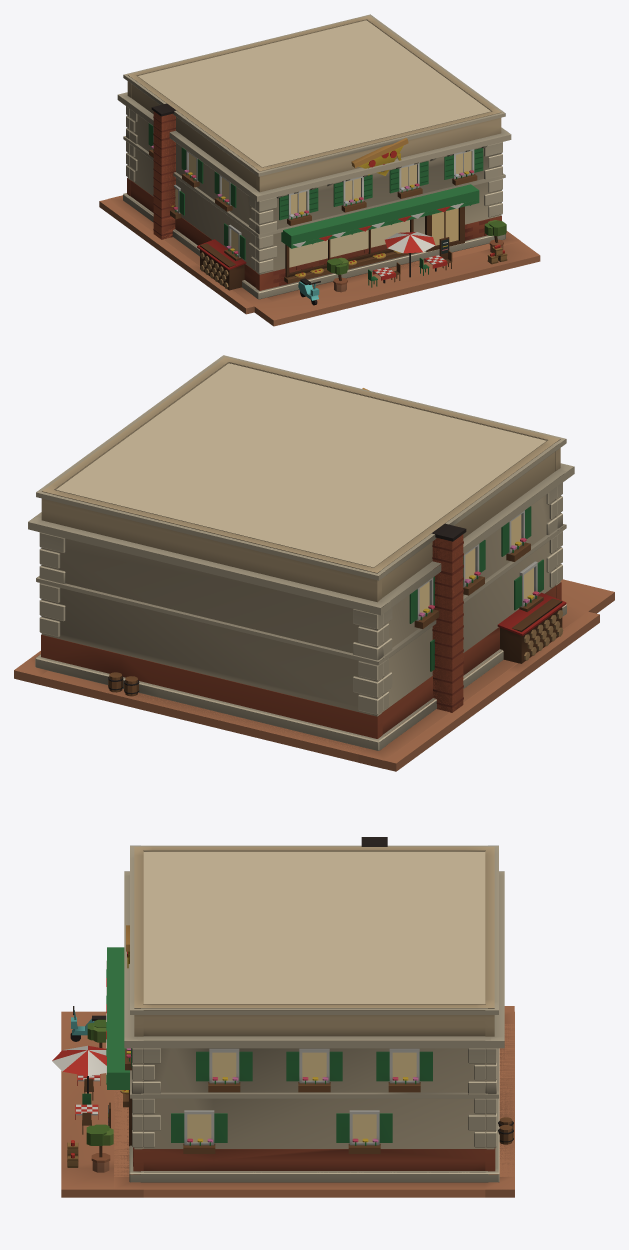
The model's file is PizzaRatFloor.fbx.
The picture shows the model from 3 angles, top to bottom: view 1: azimuth 30°, elevation 25°; view 2: azimuth 150°, elevation 25°; view 3: azimuth 270°, elevation 25°; orthographic projection. The views are drawn at different scales.
Parts seen in each view (by area): view 1: PZ_S_All, PZ_F_Rings, PZ_F_Smooth, PZ_F_Quiet, PZ_F_Glass, PZ_F_Props; view 2: PZ_F_Rings, PZ_S_All, PZ_F_Smooth, PZ_F_Quiet, PZ_F_Glass, PZ_F_Props; view 3: PZ_S_All, PZ_F_Rings, PZ_F_Smooth, PZ_F_Quiet, PZ_F_Props, PZ_F_Glass.
Part boxes in pixels (x1,y1,x2,y2): PZ_S_All: [119, 20, 520, 312]; PZ_F_Rings: [118, 14, 510, 293]; PZ_F_Smooth: [99, 14, 540, 326]; PZ_F_Quiet: [99, 195, 539, 320]; PZ_F_Glass: [175, 151, 471, 267]; PZ_F_Props: [149, 146, 506, 300]; PZ_F_Rings: [28, 355, 573, 750]; PZ_S_All: [14, 363, 571, 768]; PZ_F_Smooth: [14, 356, 614, 771]; PZ_F_Quiet: [14, 579, 614, 763]; PZ_F_Glass: [419, 514, 533, 612]; PZ_F_Props: [414, 542, 543, 628]; PZ_S_All: [107, 851, 514, 1197]; PZ_F_Rings: [123, 845, 504, 1173]; PZ_F_Smooth: [61, 837, 514, 1197]; PZ_F_Quiet: [61, 1006, 514, 1189]; PZ_F_Props: [52, 951, 420, 1172]; PZ_F_Glass: [187, 1052, 416, 1142].
Bounding box in the file's own units: 60 × 20 × 60.
